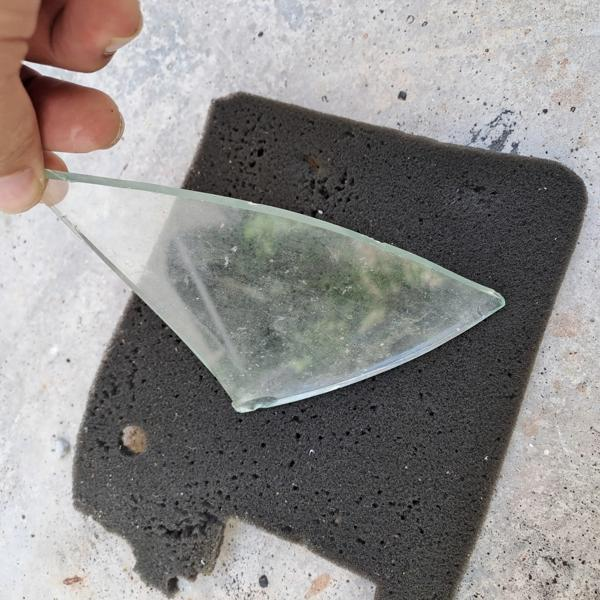Anorganik: (80, 170, 507, 420)
